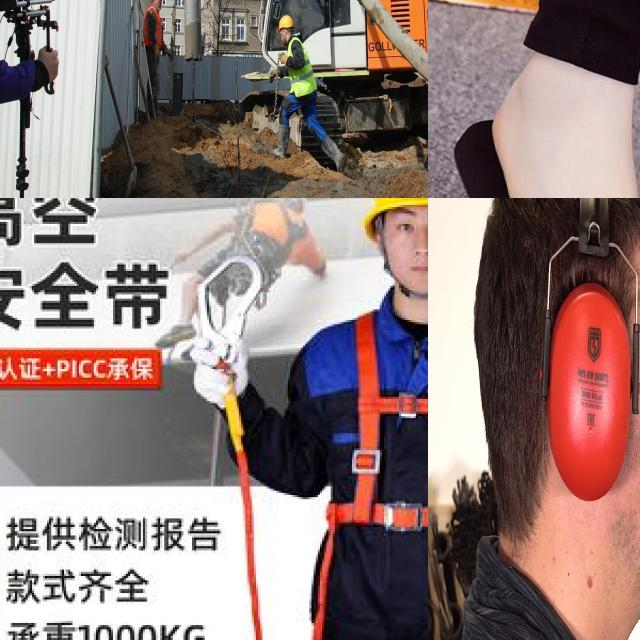Ear-protection: (540, 267, 640, 494)
Harness: (313, 307, 428, 640)
Sandals: (428, 22, 640, 198)
boots: (320, 134, 351, 177), (269, 123, 290, 160)
hand_glove: (151, 42, 164, 64), (164, 41, 177, 60)
hand_noglove: (37, 42, 64, 90), (279, 49, 286, 67)
head_helmet: (276, 15, 296, 32)
person: (451, 198, 640, 640), (276, 15, 346, 172), (140, 0, 164, 118)
vest: (290, 42, 314, 99), (147, 6, 163, 44)
